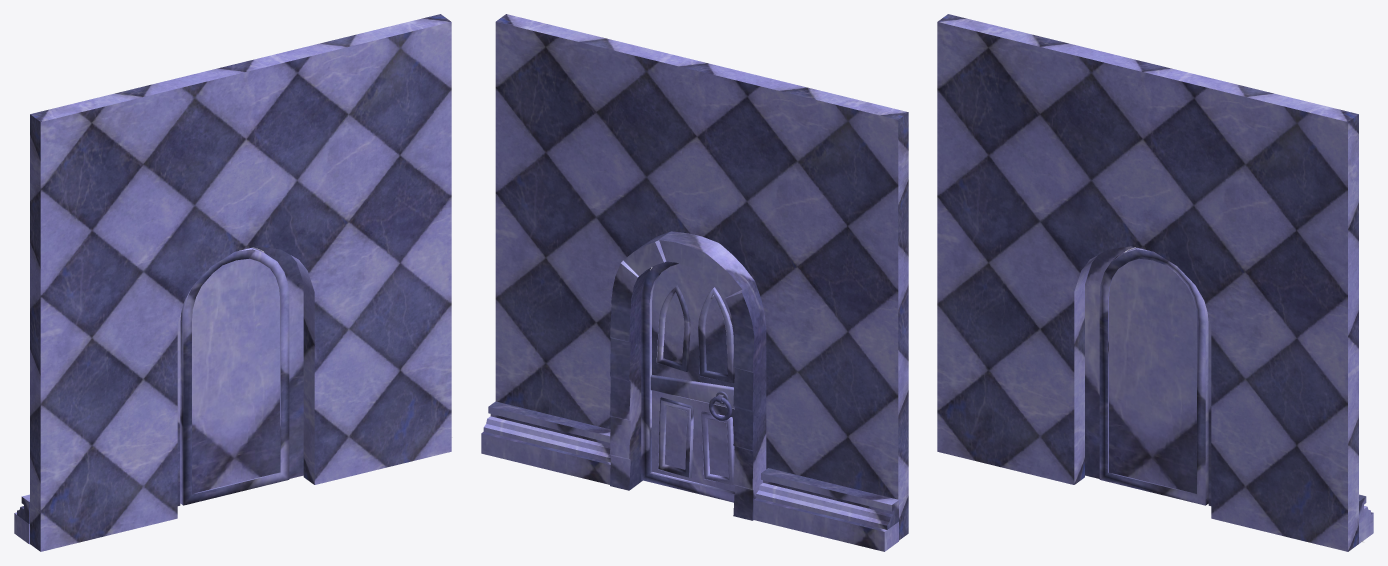
The model's file is hub_wall_doorway.fbx.
3 views of the same model, side by side, from view 1: azimuth 30°, elevation 25°; view 2: azimuth 150°, elevation 25°; view 3: azimuth 330°, elevation 25° (orthographic). The views are drawn at different scales.
Visible parts, largest first — view 1: wall_doorway, door, door_arch; view 2: wall_doorway, door, door_arch, wall_trim_border_1, wall_trim_border_, wall_trim_brick_border_1, wall_trim_brick_border_; view 3: wall_doorway, door, door_arch.
Part boxes in pixels (bbox=[...]): wall_doorway: bbox=[30, 14, 451, 551]; door: bbox=[180, 247, 289, 505]; door_arch: bbox=[177, 246, 303, 505]; wall_doorway: bbox=[495, 14, 908, 540]; door: bbox=[641, 261, 734, 502]; door_arch: bbox=[610, 231, 766, 520]; wall_trim_border_1: bbox=[756, 468, 898, 529]; wall_trim_border_: bbox=[483, 401, 610, 462]; wall_trim_brick_border_1: bbox=[753, 498, 898, 551]; wall_trim_brick_border_: bbox=[481, 431, 610, 484]; wall_doorway: bbox=[937, 14, 1358, 551]; door: bbox=[1099, 247, 1208, 505]; door_arch: bbox=[1085, 246, 1211, 505].
Bounding box in the file's own units: 23.02 × 22.5 × 2.53.
